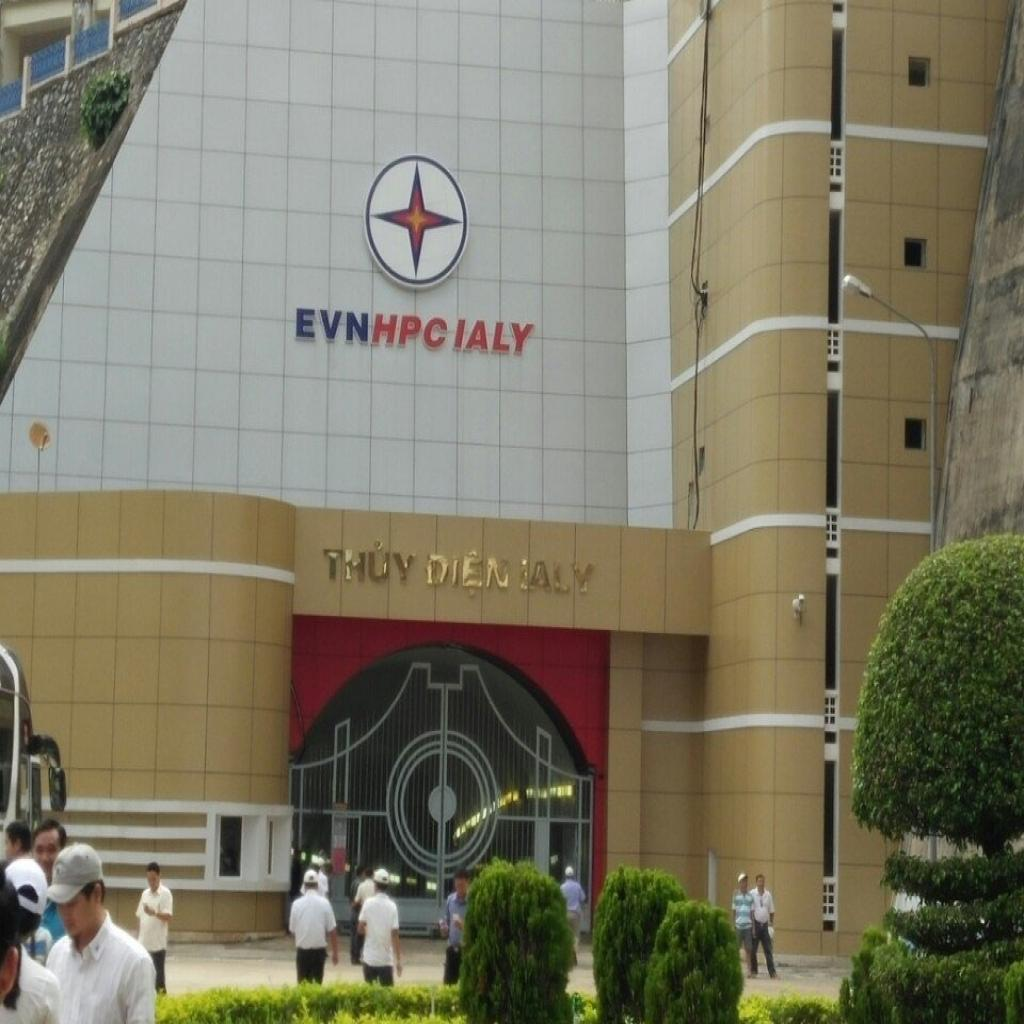text: (292, 306, 452, 357), (319, 538, 423, 592), (422, 549, 512, 602), (450, 316, 538, 357)
